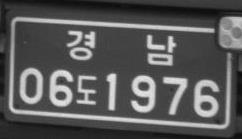0: (18, 66, 44, 105)
1: (101, 71, 122, 111)
6: (192, 77, 220, 118), (47, 68, 74, 108)
7: (161, 74, 188, 115)
9: (128, 73, 156, 114)
경남_D: (65, 28, 177, 66)
도: (75, 73, 98, 106)
